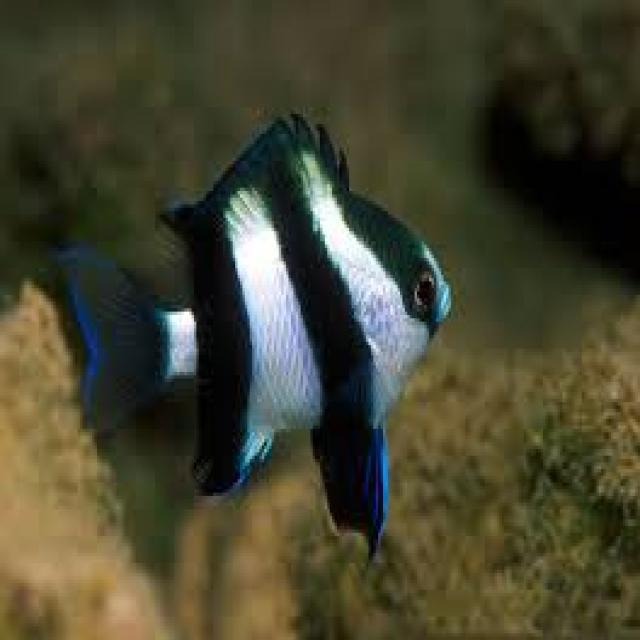ThreeStripedDamselfish: (53, 114, 453, 563)
